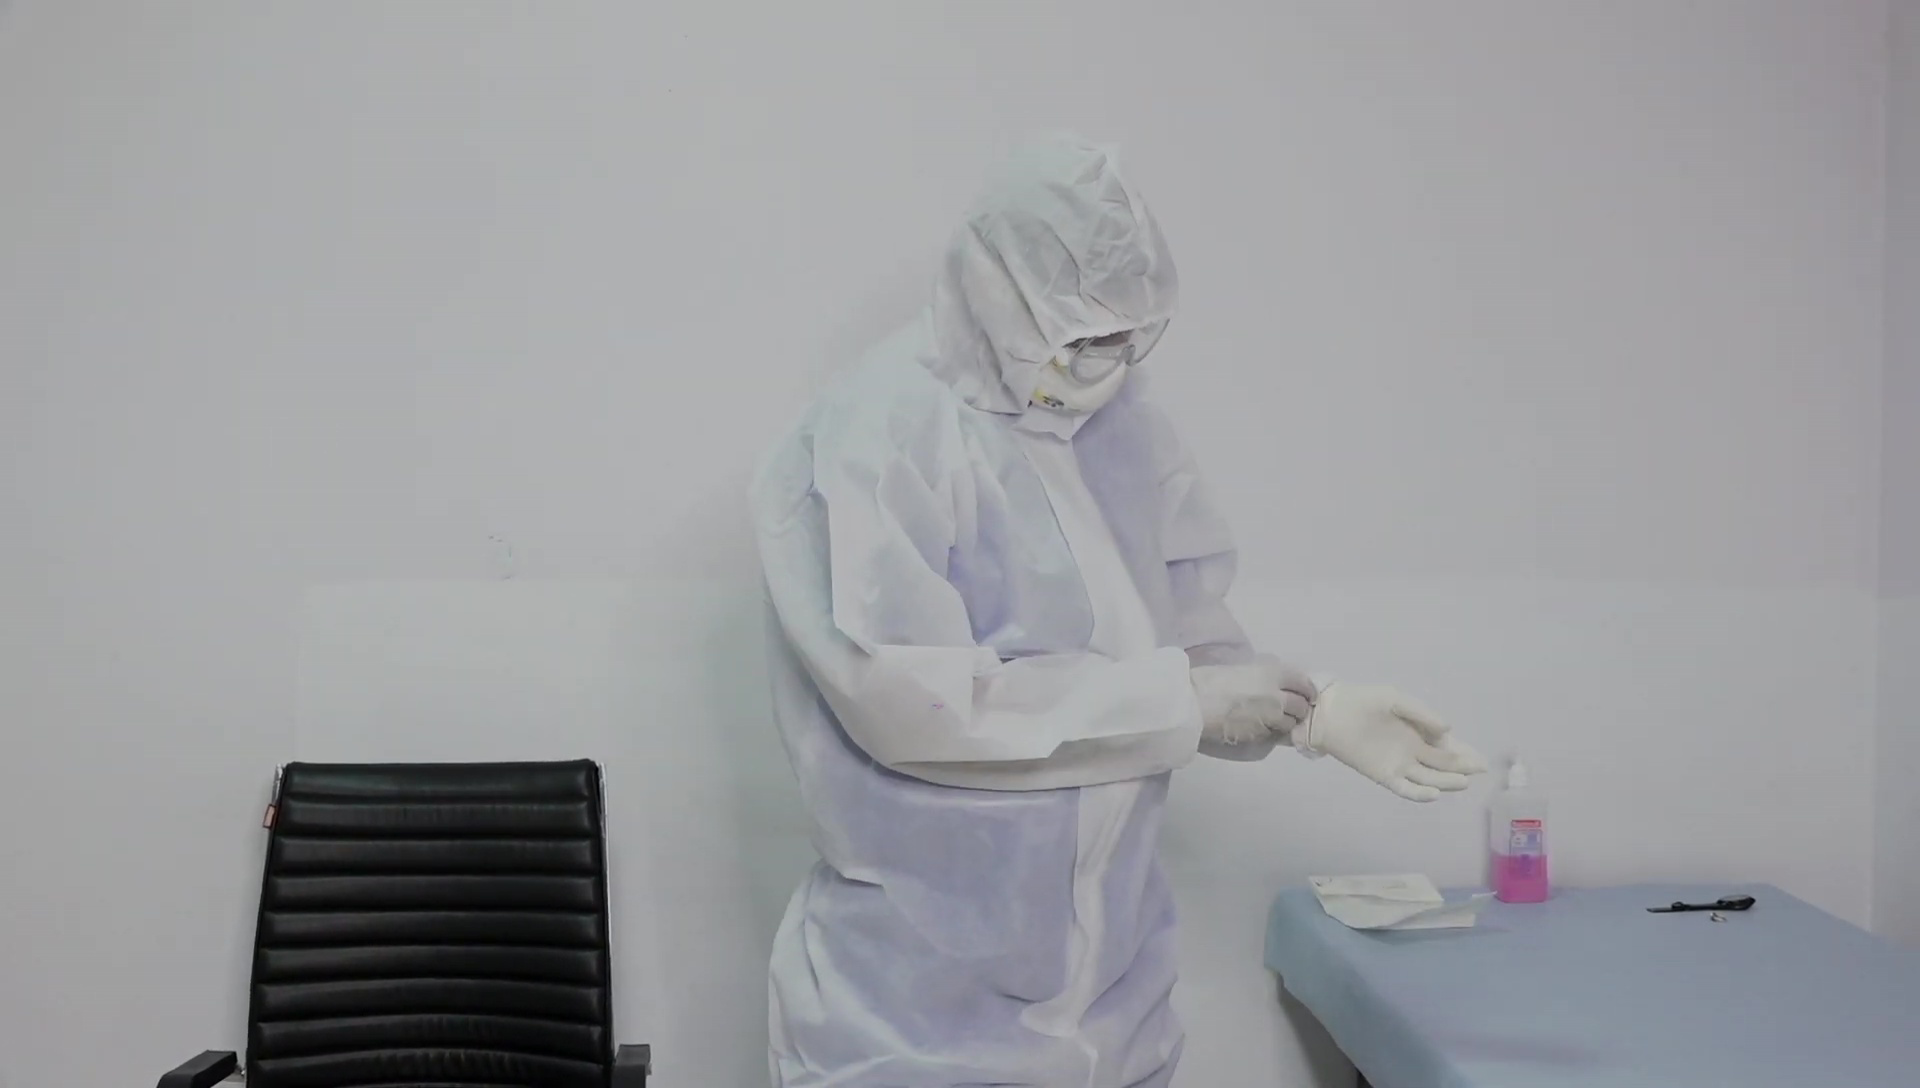Coverall: (753, 130, 1251, 1085)
Gloves: (1316, 685, 1493, 803), (1198, 662, 1321, 749)
Goggles: (1053, 317, 1173, 387)
with_mask: (1030, 348, 1128, 415)
